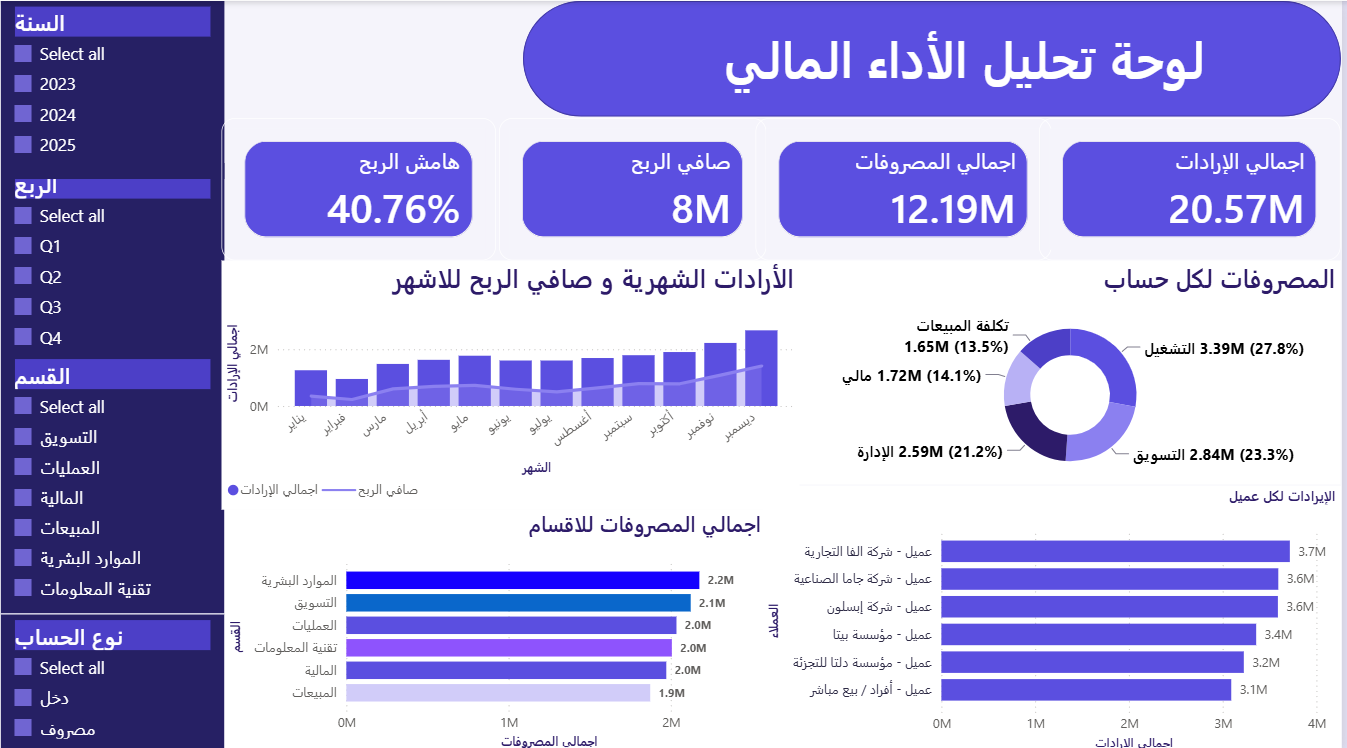

This screenshot's page, from the dashboard's own definition file:
{"tool":"powerbi","page":{"name":"Page 2","canvas":[1280,720],"ordinal":0},"visuals":[{"type":"slicer","fields":{"Values":["Dim_Account.AccountType"]},"box":[0,585.3,213.1,135.2],"z":0},{"type":"slicer","fields":{"Values":["Dim_Date.Quarter"]},"box":[0,154.3,213.1,189.3],"z":250},{"type":"slicer","fields":{"Values":["Dim_Date.Year"]},"box":[0,0,213.1,170.2],"z":500},{"type":"slicer","fields":{"Values":["Dim_Department.DepartmentName"]},"box":[0,337.2,213.1,248.1],"z":1000},{"type":"clusteredBarChart","title":"اجمالي المصروفات للاقسام","fields":{"Category":["Dim_Department.DepartmentName"],"Y":["Measures_.اجمالي المصروفات"]},"box":[213.8,486.2,517.2,234.5],"z":3000},{"type":"lineStackedColumnComboChart","title":"الأرادات الشهرية و صافي الربح للاشهر","fields":{"Category":["Dim_Date.MonthName"],"Y":["Measures_.اجمالي الإرادات"],"Y2":["Measures_.صافي الربح"]},"box":[210.3,248.3,551.7,237.9],"z":4000},{"type":"barChart","title":"الإيرادات لكل عميل","fields":{"Category":["Dim_Vendor.VendorName"],"Y":["Measures_.اجمالي الإرادات"]},"box":[727.6,462.1,551.7,258.6],"z":6000},{"type":"donutChart","title":"المصروفات لكل حساب","fields":{"Category":["Dim_Account.AccountCategory"],"Y":["Measures_.اجمالي المصروفات"]},"box":[762.1,248.3,517.2,213.8],"z":7000},{"type":"cardVisual","title":"هامش الربح","fields":{"Data":["Measures_.Profit Margin %"]},"box":[210.3,112.1,262.1,136.2],"z":8000},{"type":"cardVisual","fields":{"Data":["Measures_.Net Profit"]},"box":[475.9,112.1,255.2,136.2],"z":9000},{"type":"cardVisual","fields":{"Data":["Measures_.Total Expenses"]},"box":[720.7,112.1,282.8,136.2],"z":10000},{"type":"cardVisual","fields":{"Data":["Measures_.Total Revenue"]},"box":[991.4,112.1,287.9,136.2],"z":11000},{"type":"shape","box":[498.3,0,781,110.3],"z":12000},{"type":"textbox","box":[620.7,15.5,600,77.6],"z":13000}]}

Visuals, with their boxes in screenshot pixels (x1, y1, x2, y2), scaled from the page's 1280x720 canvas onto the 1347x748 screenshot:
slicer - Dim_Account.AccountType: x1=0, y1=608, x2=224, y2=747
slicer - Dim_Date.Quarter: x1=0, y1=160, x2=224, y2=357
slicer - Dim_Date.Year: x1=0, y1=0, x2=224, y2=177
slicer - Dim_Department.DepartmentName: x1=0, y1=350, x2=224, y2=608
"اجمالي المصروفات للاقسام" clusteredBarChart: x1=225, y1=505, x2=769, y2=747
"الأرادات الشهرية و صافي الربح للاشهر" lineStackedColumnComboChart: x1=221, y1=258, x2=802, y2=505
"الإيرادات لكل عميل" barChart: x1=766, y1=480, x2=1346, y2=747
"المصروفات لكل حساب" donutChart: x1=802, y1=258, x2=1346, y2=480
"هامش الربح" cardVisual: x1=221, y1=116, x2=497, y2=258
cardVisual - Measures_.Net Profit: x1=501, y1=116, x2=769, y2=258
cardVisual - Measures_.Total Expenses: x1=758, y1=116, x2=1056, y2=258
cardVisual - Measures_.Total Revenue: x1=1043, y1=116, x2=1346, y2=258
shape: x1=524, y1=0, x2=1346, y2=115
textbox: x1=653, y1=16, x2=1285, y2=97
